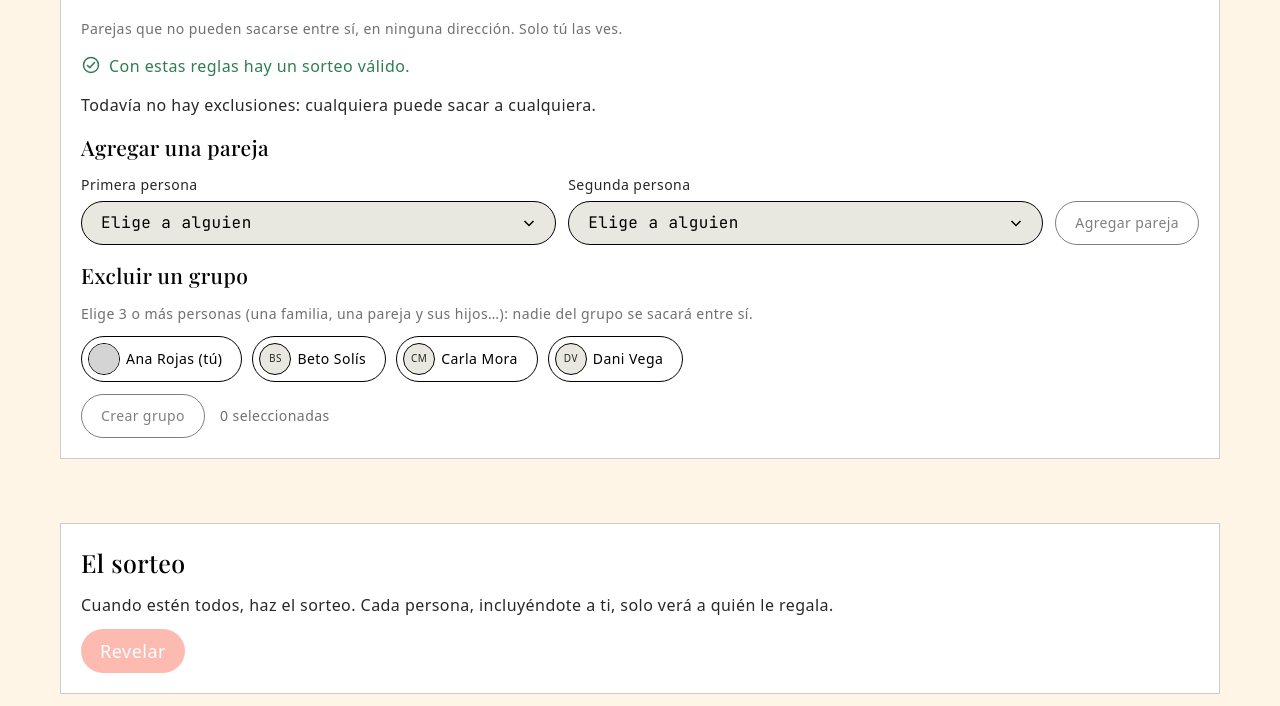
Test case: Manage › Exclusions › Group helper: needs 3 people, posts them all and updates the feasibility
(page scrolled)
Click the button "BS Beto Solís" at (319, 358), box x1=252 y1=336 x2=386 y2=382
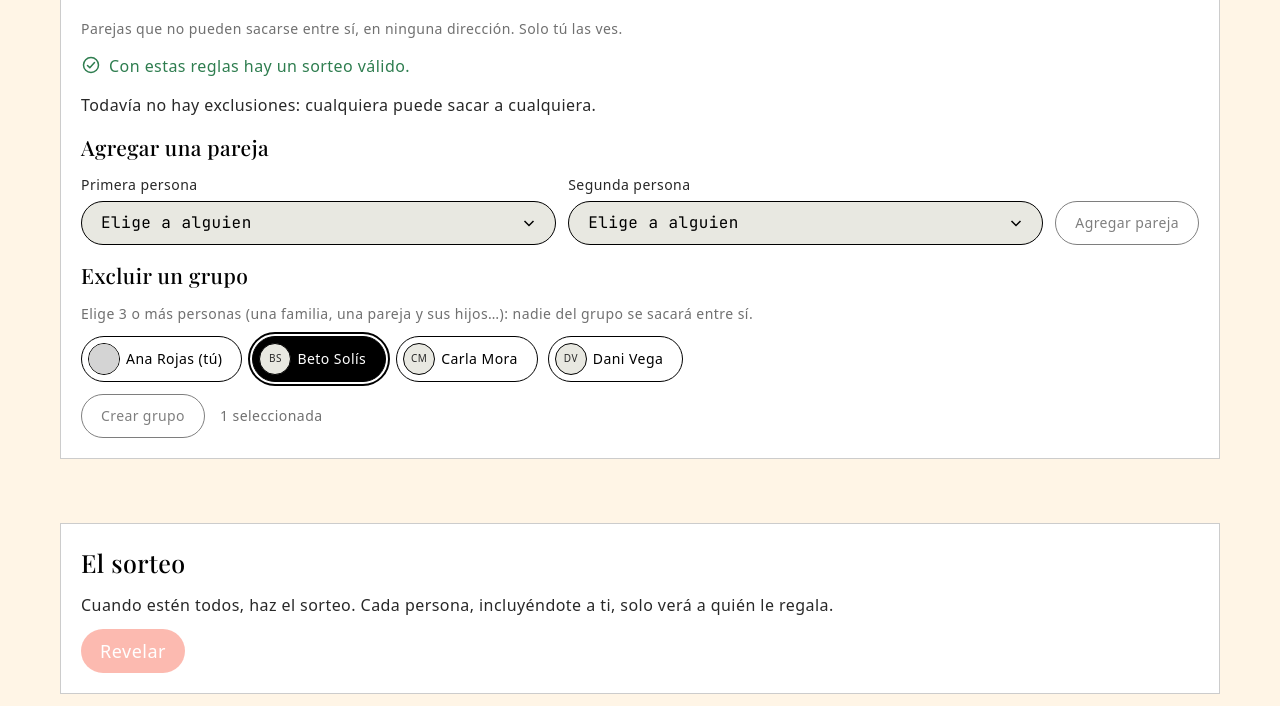
Click the button "CM Carla Mora" at (467, 358), box x1=396 y1=336 x2=538 y2=382
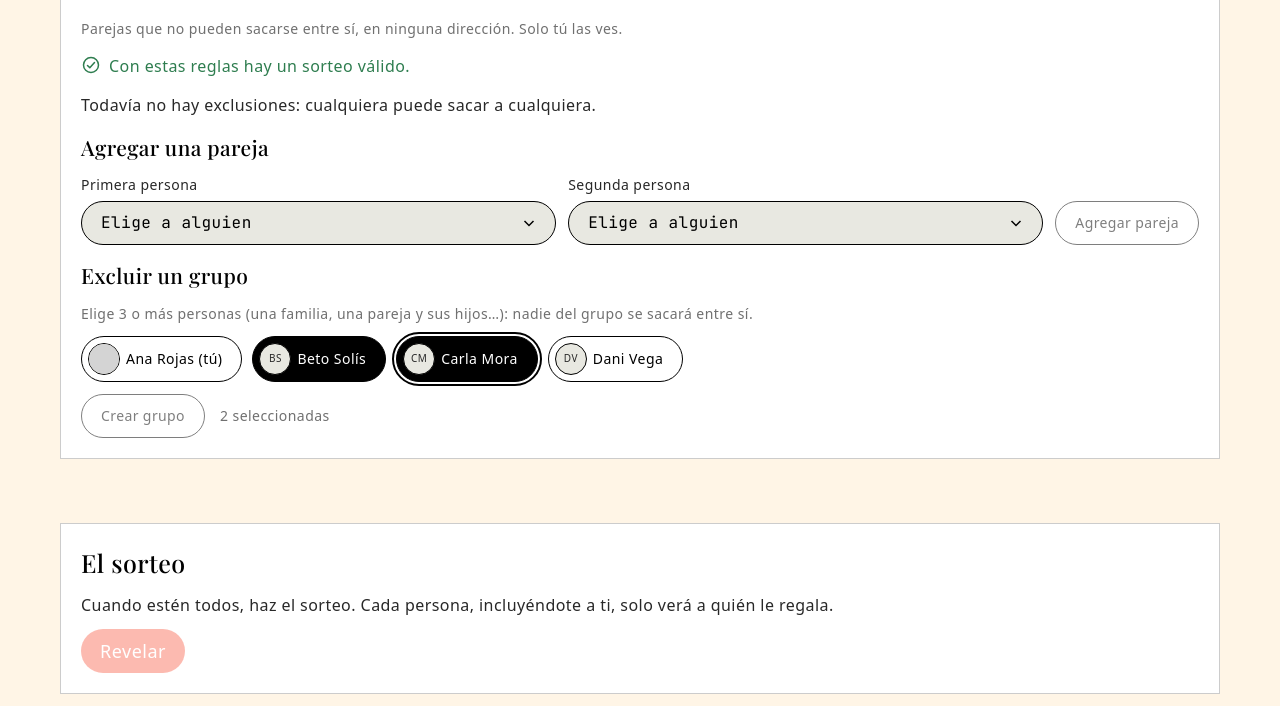
Check: the button "Crear grupo" is disabled, box x1=81 y1=394 x2=205 y2=438
Check: the text "2 seleccionadas" is shown, box x1=220 y1=406 x2=330 y2=426
Click the button "DV Dani Vega" at (616, 358), box x1=548 y1=336 x2=683 y2=382
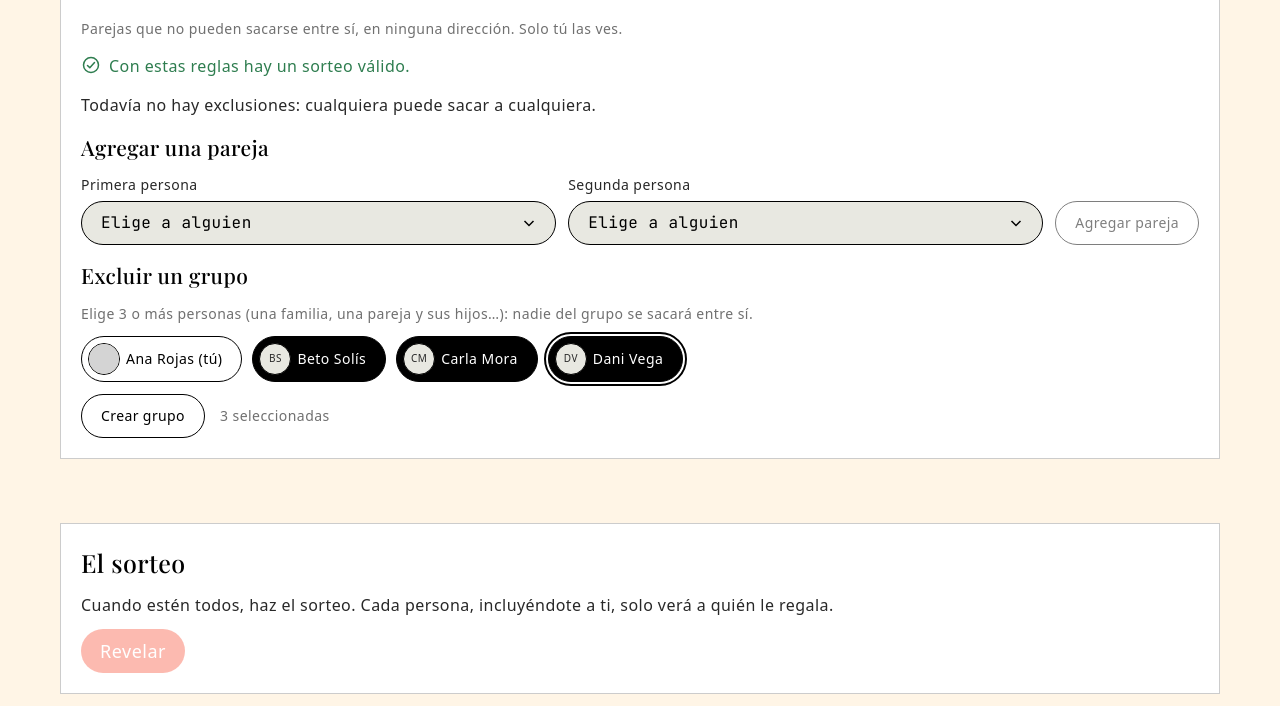
Click the button "Crear grupo" at (143, 416), box x1=81 y1=394 x2=205 y2=438
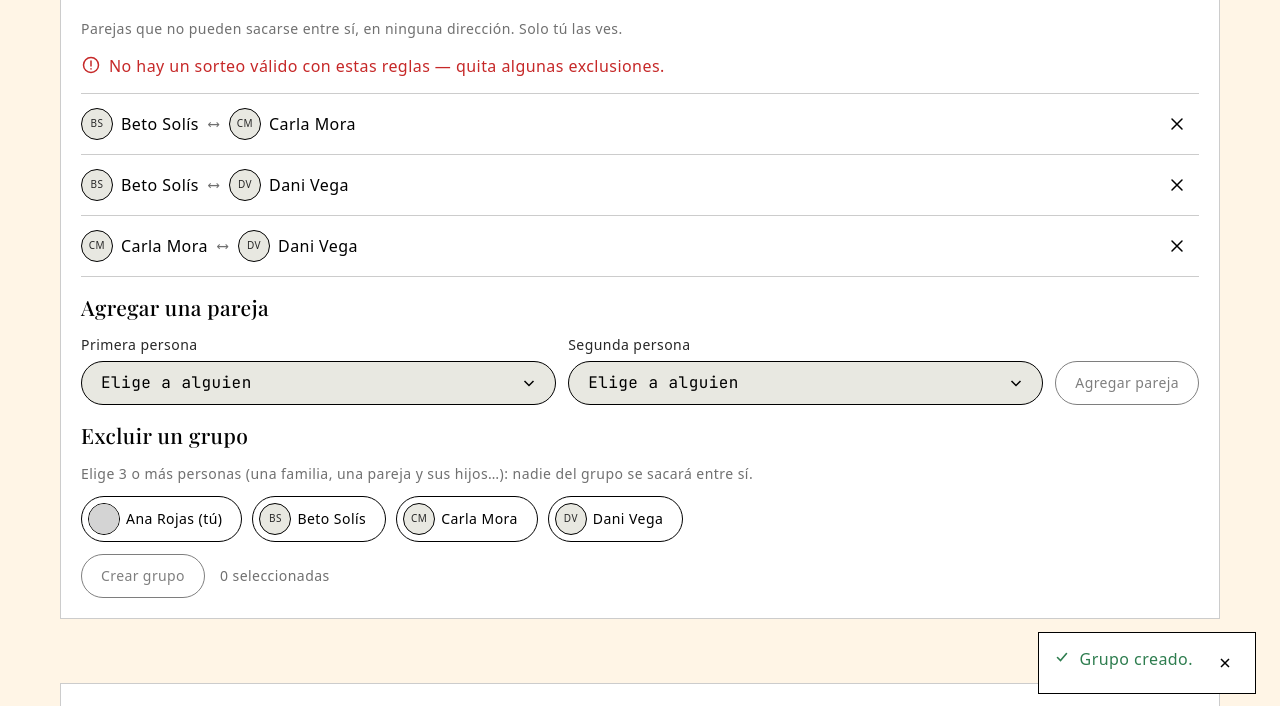
Check: the text "Grupo creado." is shown, box x1=1080 y1=647 x2=1193 y2=671
